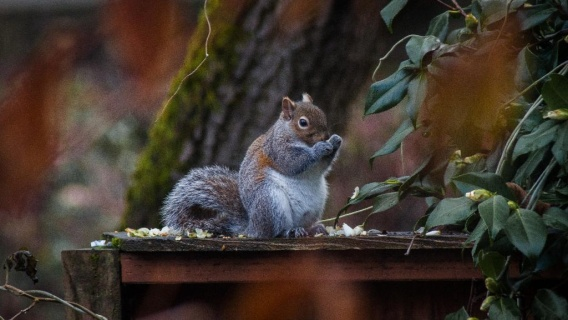Squirrel: (155, 88, 339, 239)
